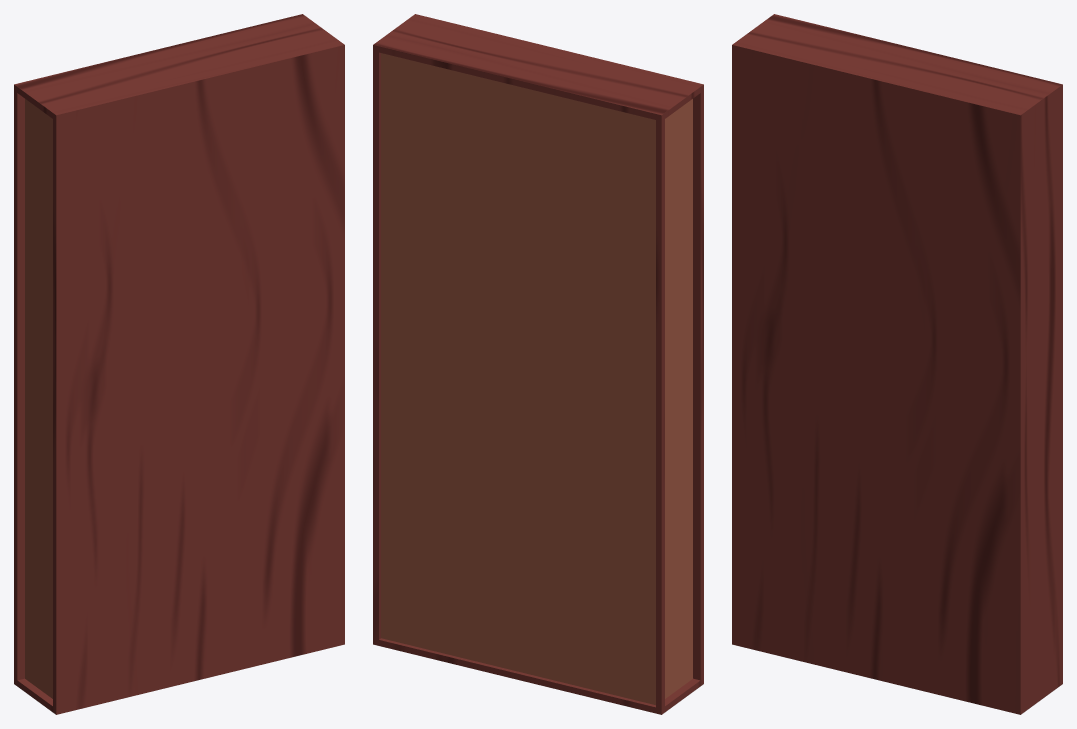
File: DuzDuvar.fbx
3 renders of one model, left to right at view 1: azimuth 30°, elevation 25°; view 2: azimuth 150°, elevation 25°; view 3: azimuth 330°, elevation 25°, orthographic.
Parts seen in each view (by area): view 1: duvar8.001; view 2: duvar8.001; view 3: duvar8.001.
Part boxes in pixels (x1=…): duvar8.001: x1=14, y1=14, x2=344, y2=714; duvar8.001: x1=373, y1=14, x2=703, y2=714; duvar8.001: x1=732, y1=14, x2=1062, y2=714.
Bounding box in the file's own units: 2133 × 4234 × 540.
